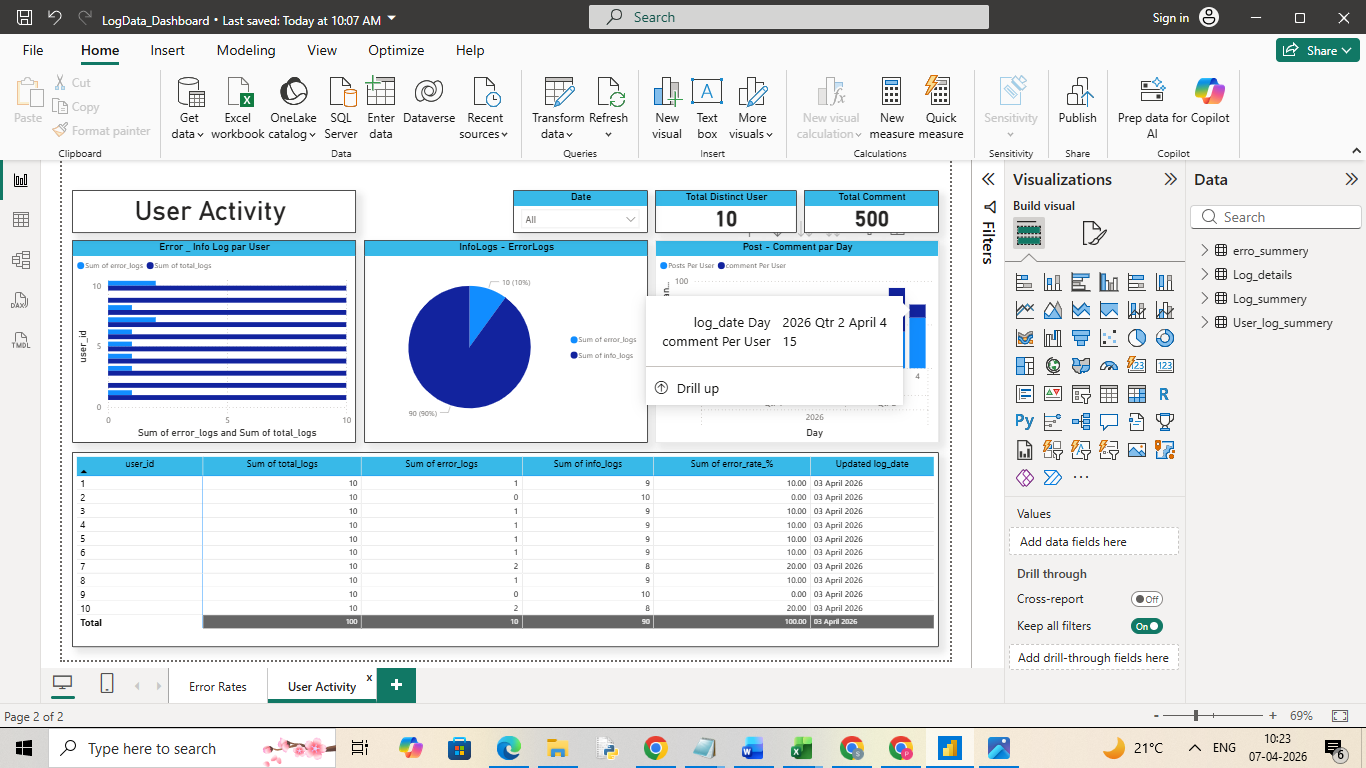

What the dashboard file says about the page in this screenshot:
{"tool":"powerbi","page":{"name":"User Activity","canvas":[1280,720],"ordinal":1},"visuals":[{"type":"pivotTable","fields":{"Rows":["User_log_summery.user_id"],"Values":["Sum(User_log_summery.total_logs)","Sum(User_log_summery.error_logs)","Sum(User_log_summery.info_logs)","Sum(User_log_summery.error_rate_%)","Min(Log_details.log_date)"]},"box":[14.4,420.5,1248.5,280.8],"z":0},{"type":"pieChart","title":"InfoLogs - ErrorLogs","fields":{"Y":["Sum(User_log_summery.error_logs)","Sum(User_log_summery.info_logs)"]},"box":[434.9,115.2,409,292.3],"z":1000},{"type":"columnChart","title":"Post - Comment par Day","fields":{"Category":["Log_summery.log_date.Variation.Date Hierarchy.Year","Log_summery.log_date.Variation.Date Hierarchy.Quarter","Log_summery.log_date.Variation.Date Hierarchy.Month","Log_summery.log_date.Variation.Date Hierarchy.Day"],"Y":["Log_details.Posts Per User","Log_details.comment Per User"]},"box":[853.9,115.2,409,292.3],"z":2000},{"type":"card","title":"Total Distinct User","fields":{"Values":["CountNonNull(User_log_summery.user_id)"]},"box":[853.9,43.2,204.5,61.9],"z":4000},{"type":"card","title":"Total Comment","fields":{"Values":["Log_details.comment Per User"]},"box":[1068.5,43.2,194.4,61.9],"z":5000},{"type":"slicer","title":"Date","fields":{"Values":["Log_summery.log_date"]},"box":[649.4,43.2,194.4,61.9],"z":6000},{"type":"clusteredBarChart","title":"Error _ Info Log par User","fields":{"Category":["User_log_summery.user_id"],"Y":["Sum(User_log_summery.error_logs)","Sum(User_log_summery.total_logs)"]},"box":[14.4,115.2,409,292.3],"z":7000},{"type":"textbox","box":[14.4,43.2,409,61.9],"z":7001}]}

Visuals, with their boxes on the page's 1280x720 design canvas (x1, y1, x2, y2). These are canvas units, not pixel positions in the 1366x768 screenshot, which may show the page scaled, cropped or inside an application window:
pivotTable - User_log_summery.user_id x Sum(User_log_summery.total_logs): (14,420,1263,701)
"InfoLogs - ErrorLogs" pieChart: (435,115,844,408)
"Post - Comment par Day" columnChart: (854,115,1263,408)
"Total Distinct User" card: (854,43,1058,105)
"Total Comment" card: (1068,43,1263,105)
"Date" slicer: (649,43,844,105)
"Error _ Info Log par User" clusteredBarChart: (14,115,423,408)
textbox: (14,43,423,105)
